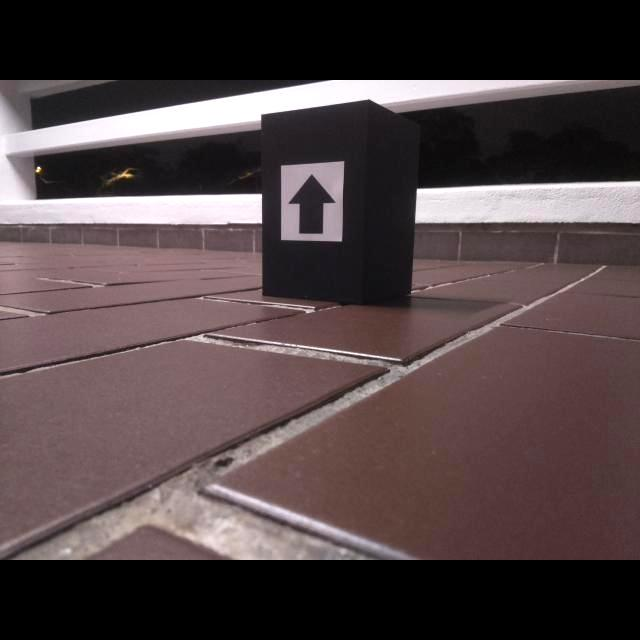UP: (287, 173, 337, 234)
